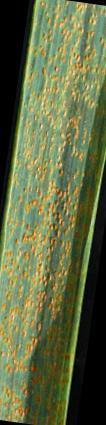Wheat: (13, 206, 64, 416), (28, 106, 95, 198), (41, 9, 104, 97)
